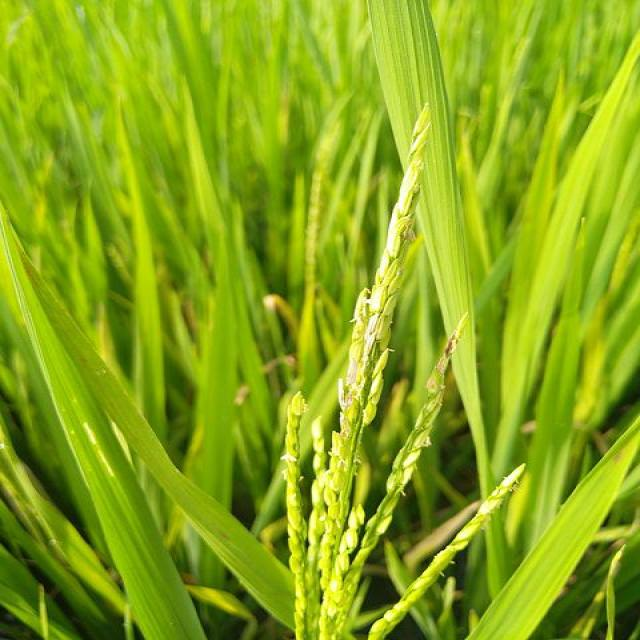Panicle Blight: (427, 314, 468, 405), (339, 339, 360, 418)
